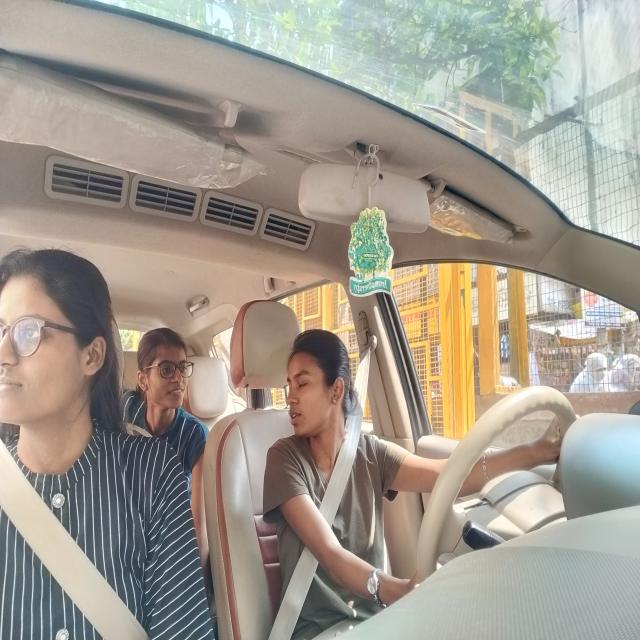LeftRight: (282, 346, 350, 442)
person: (0, 262, 114, 438), (132, 332, 198, 410)
